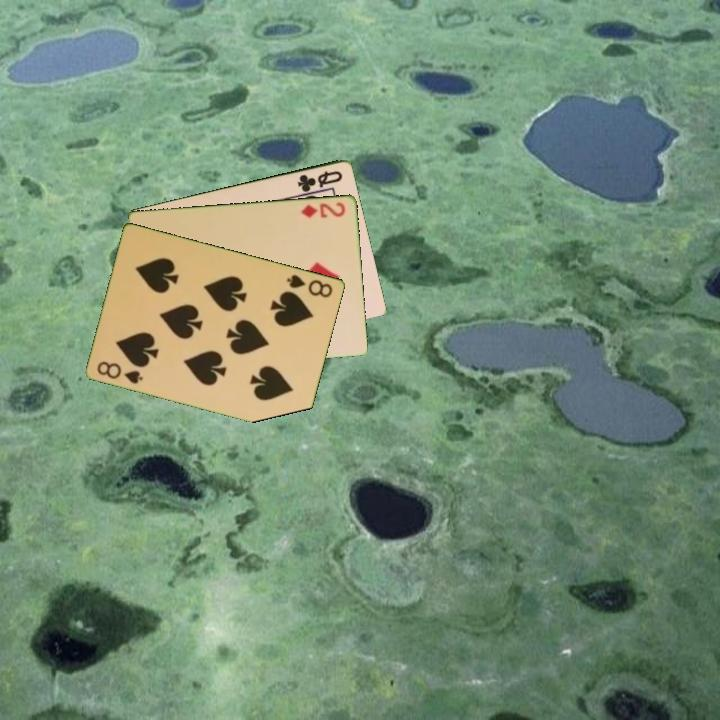2d: (298, 198, 348, 220)
8s: (284, 271, 336, 300), (94, 357, 146, 386)
Qc: (294, 167, 346, 195)
